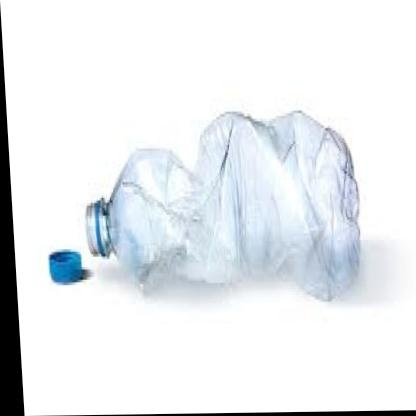trash: (86, 111, 359, 299), (49, 250, 89, 283)
